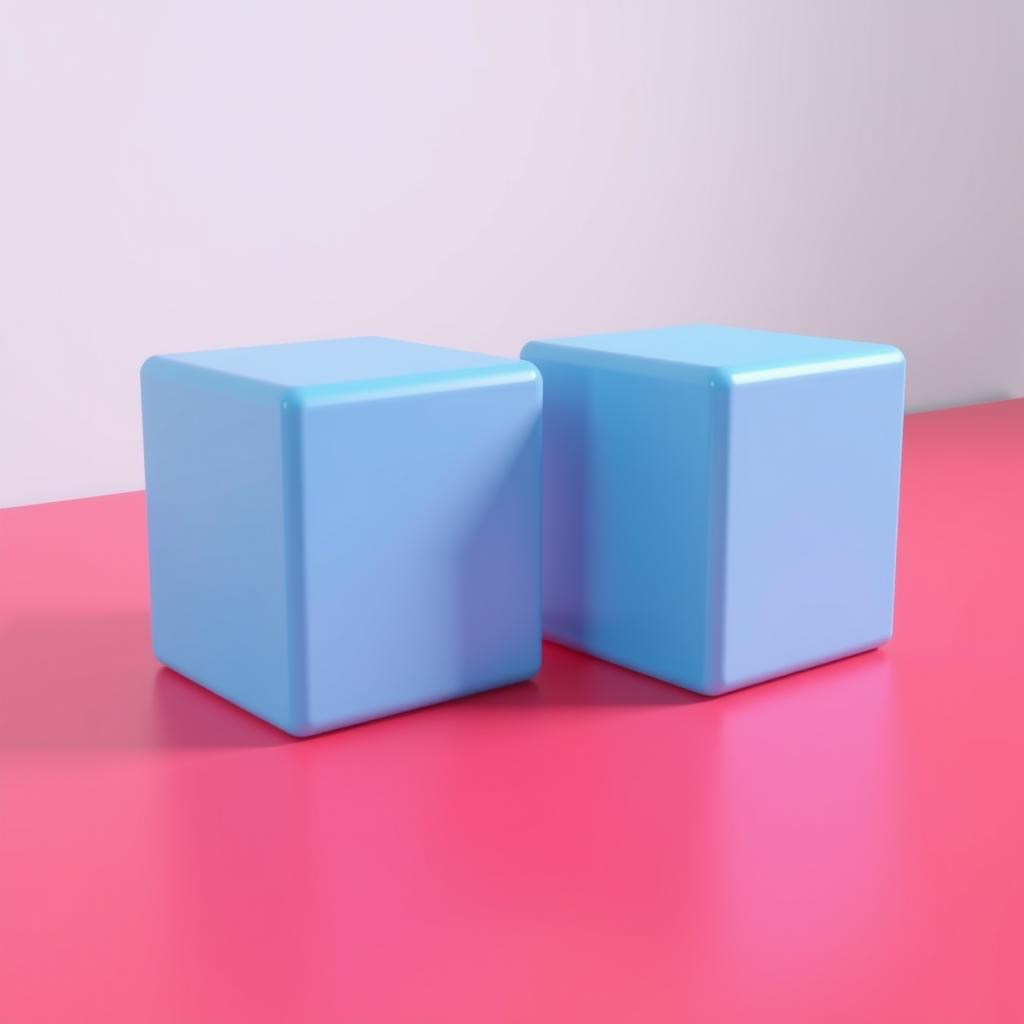cube: (138, 333, 544, 738), (519, 321, 906, 697)
